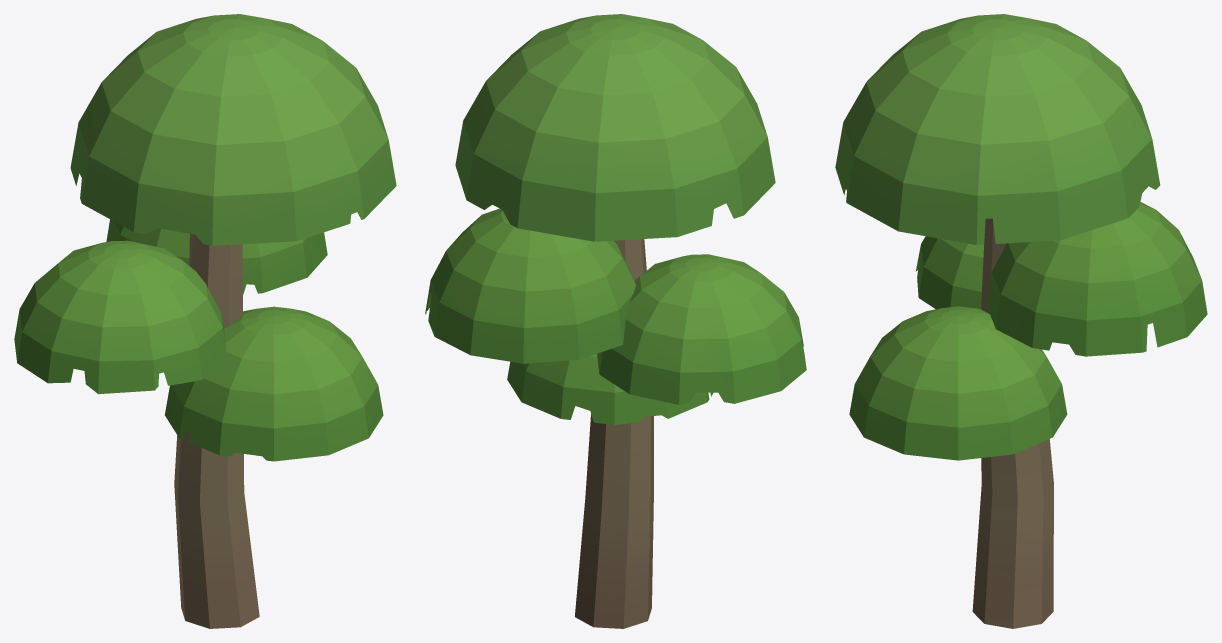
The model's file is Dino_Tree_D.fbx.
3 renders of one model, left to right at view 1: azimuth 30°, elevation 25°; view 2: azimuth 150°, elevation 25°; view 3: azimuth 270°, elevation 25°, orthographic.
Visible parts, largest first — view 1: Dino_Tree_D_mesh; view 2: Dino_Tree_D_mesh; view 3: Dino_Tree_D_mesh.
Part boxes in pixels (x1,y1,x2,y2): Dino_Tree_D_mesh: [14, 14, 396, 628]; Dino_Tree_D_mesh: [425, 14, 806, 628]; Dino_Tree_D_mesh: [835, 14, 1207, 628].
Bounding box in the file's own units: 23.92 × 40.3 × 23.19.
